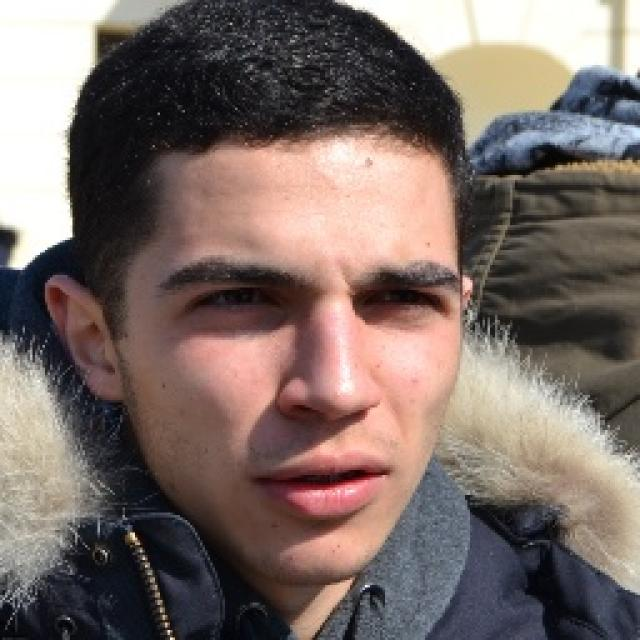earlobe: (90, 368, 125, 402)
eye: (201, 286, 275, 312), (372, 284, 438, 312)
nose: (288, 408, 376, 448)
wholeear: (44, 275, 124, 403)
